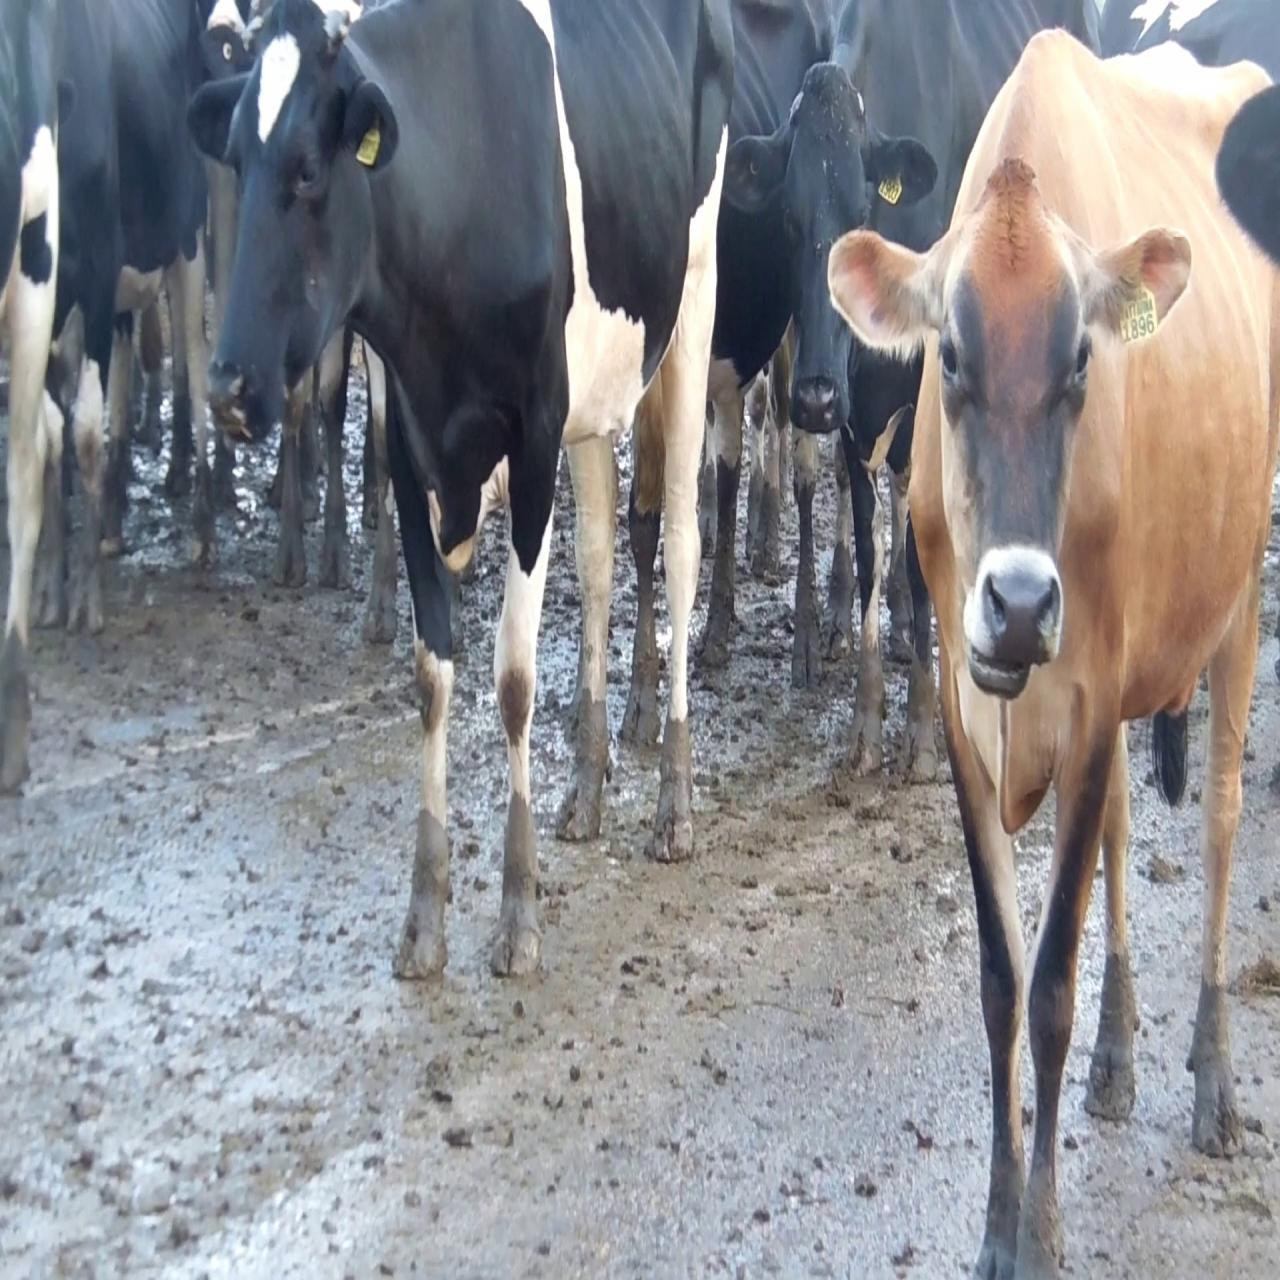Face: (940, 175, 1091, 683), (208, 53, 349, 440), (774, 80, 865, 427)
